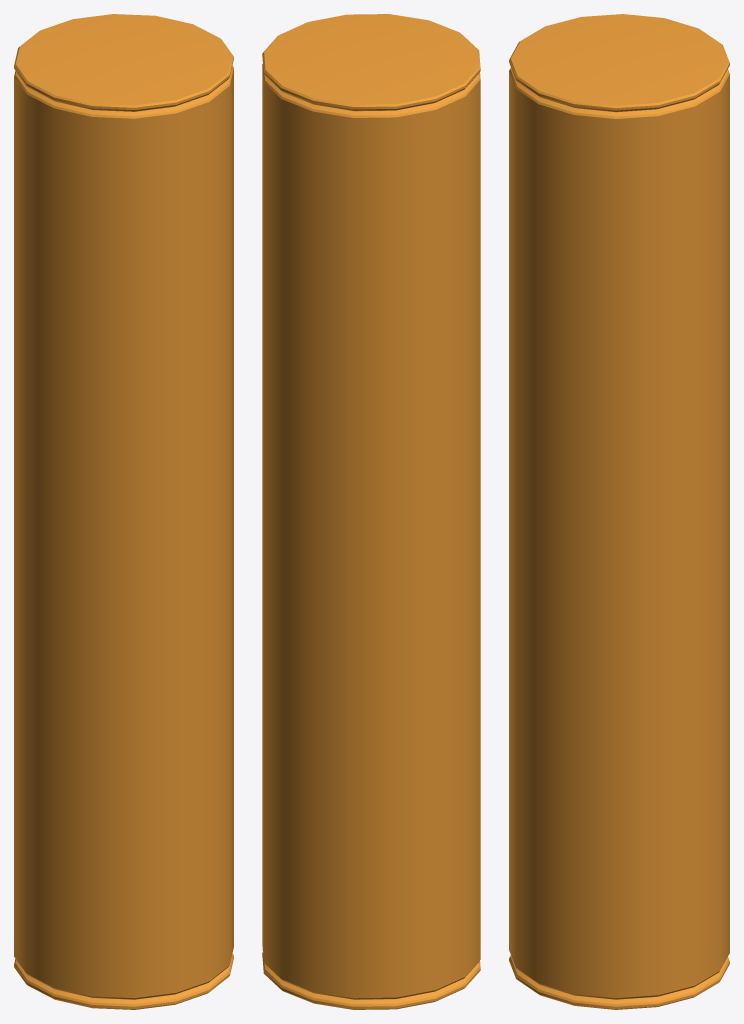
Rendered from OBS0110042.fbx.
The picture shows the model from 3 angles, left to right: view 1: azimuth 30°, elevation 25°; view 2: azimuth 150°, elevation 25°; view 3: azimuth 270°, elevation 25°; orthographic projection.
Visible parts, largest first — view 1: smOBS0110042; view 2: smOBS0110042; view 3: smOBS0110042.
Part boxes in pixels (<box>): smOBS0110042: <box>14,14,233,1009</box>; smOBS0110042: <box>262,14,480,1009</box>; smOBS0110042: <box>509,14,729,1009</box>.
Bounding box in the file's own units: 24.65 × 112 × 24.65.
1 material, 1 textured.
